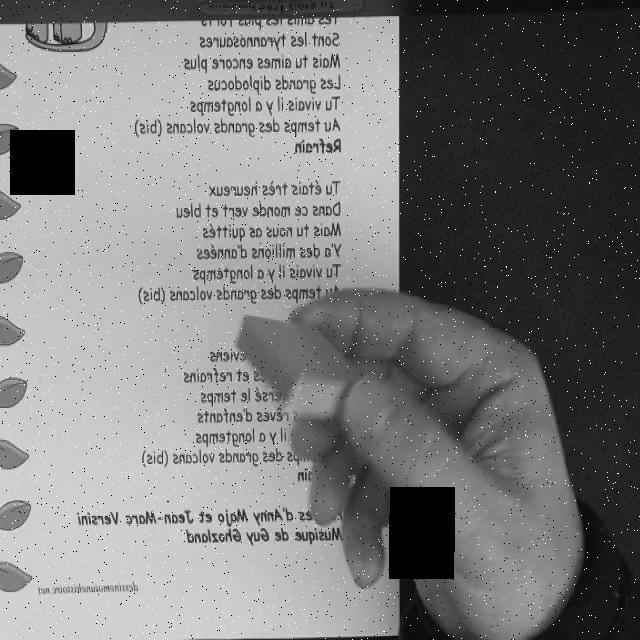square: (238, 312, 363, 416)
